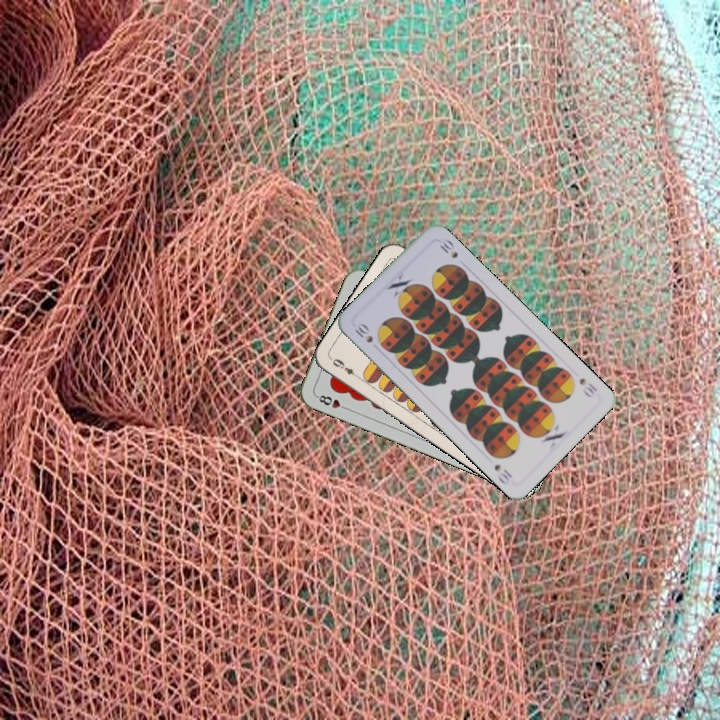E9: (327, 354, 363, 381)
H8: (312, 391, 351, 413)
S10: (351, 319, 376, 345), (575, 374, 600, 400)
